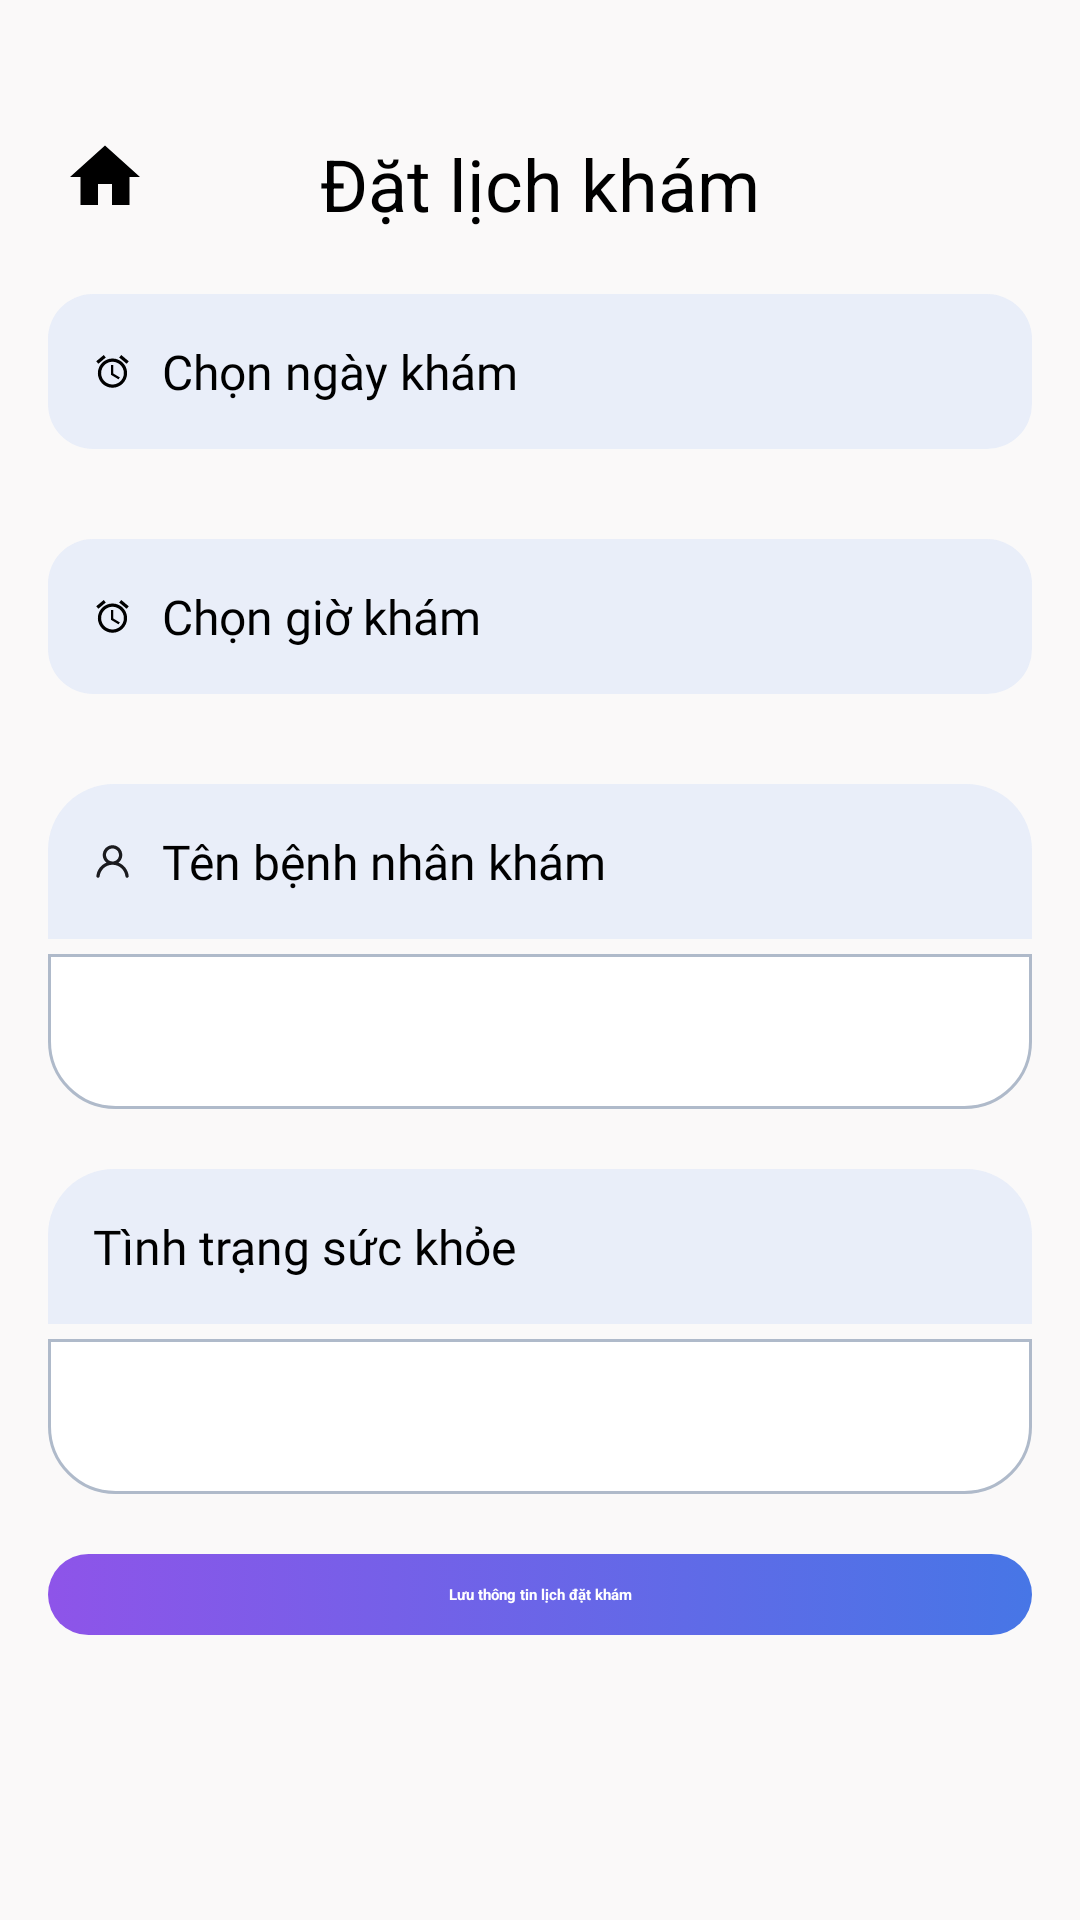

Screen size 1080px×1920px. Icon name, then its box in pixels as [x1, y1, x2, y2]:
home: [70, 145, 140, 205]
